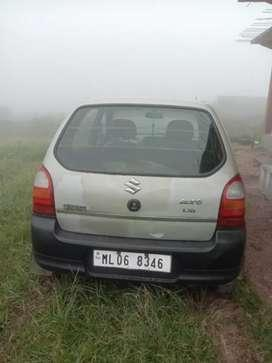ML068346: (92, 248, 170, 270)
